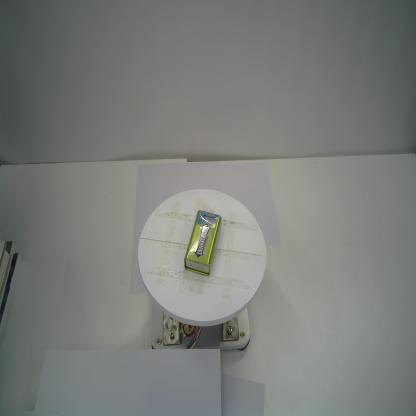Gum: (183, 209, 223, 278)
